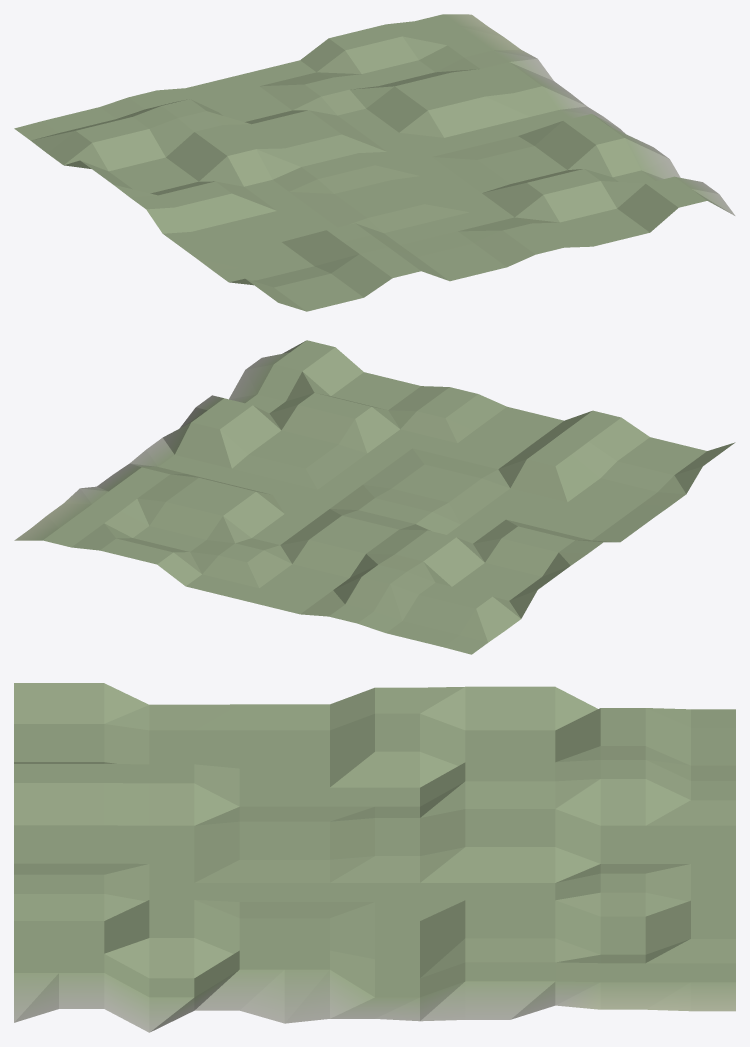
3 renders of one model, top to bottom at view 1: azimuth 30°, elevation 25°; view 2: azimuth 150°, elevation 25°; view 3: azimuth 270°, elevation 25°, orthographic. The views are drawn at different scales.
Size of the model in its own units: 32 by 2.18 by 32.
